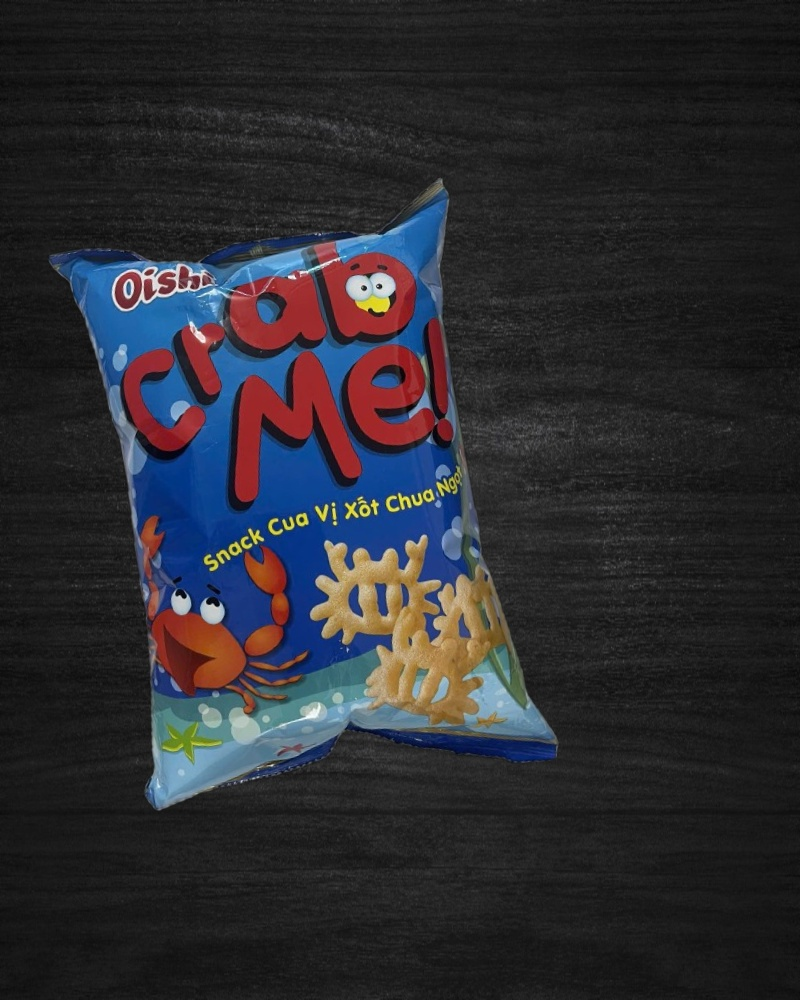Snack chay: (47, 175, 562, 833)
